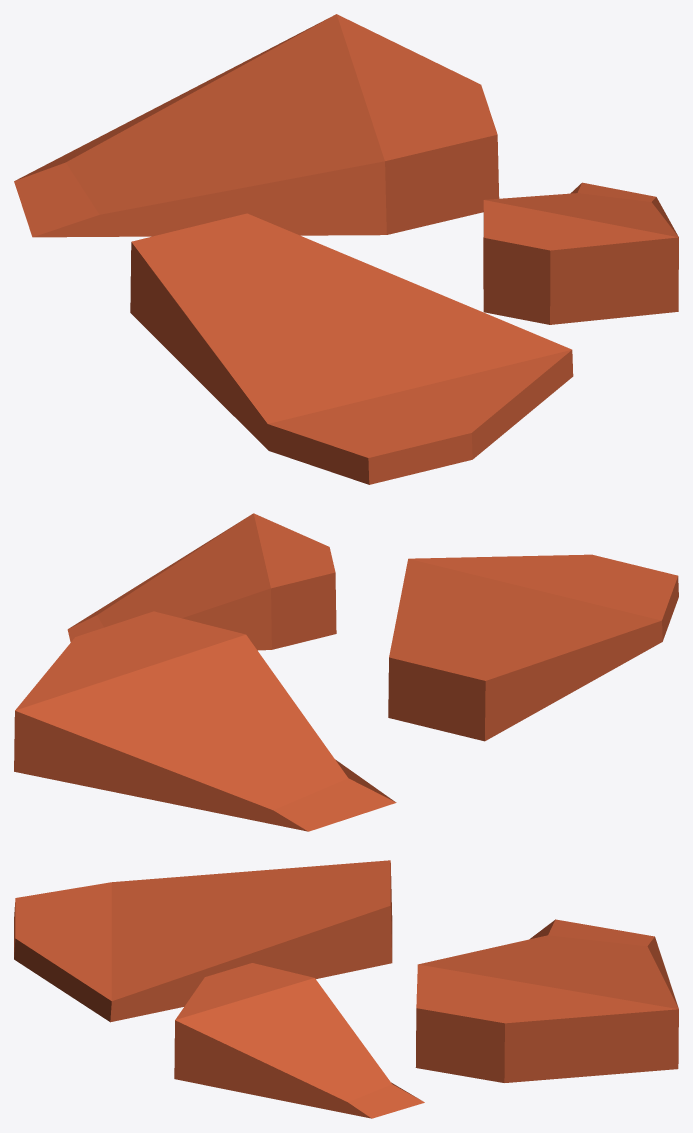
The model's file is rock2.fbx.
3 views of the same model, one above another, from view 1: azimuth 30°, elevation 25°; view 2: azimuth 150°, elevation 25°; view 3: azimuth 270°, elevation 25° (orthographic). The views are drawn at different scales.
Visible parts, largest first — view 1: Cube; view 2: Cube; view 3: Cube.
Part boxes in pixels (bbox=[...]): Cube: bbox=[14, 14, 678, 484]; Cube: bbox=[14, 513, 678, 831]; Cube: bbox=[14, 860, 678, 1118].
Bounding box in the file's own units: 362 × 46.39 × 472.
